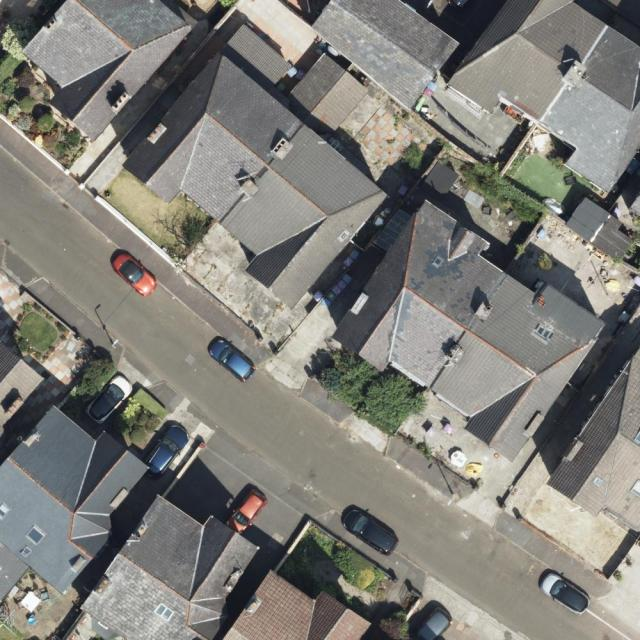roof: (116, 18, 388, 308), (327, 194, 611, 466), (447, 0, 640, 196), (0, 403, 149, 606), (64, 493, 260, 639), (21, 0, 195, 145), (545, 340, 640, 540), (309, 0, 464, 113), (221, 566, 369, 639), (0, 343, 47, 432)
skylight: (23, 524, 48, 546), (531, 320, 554, 343), (155, 600, 174, 622), (0, 500, 12, 523), (432, 250, 445, 268), (18, 544, 32, 557)
